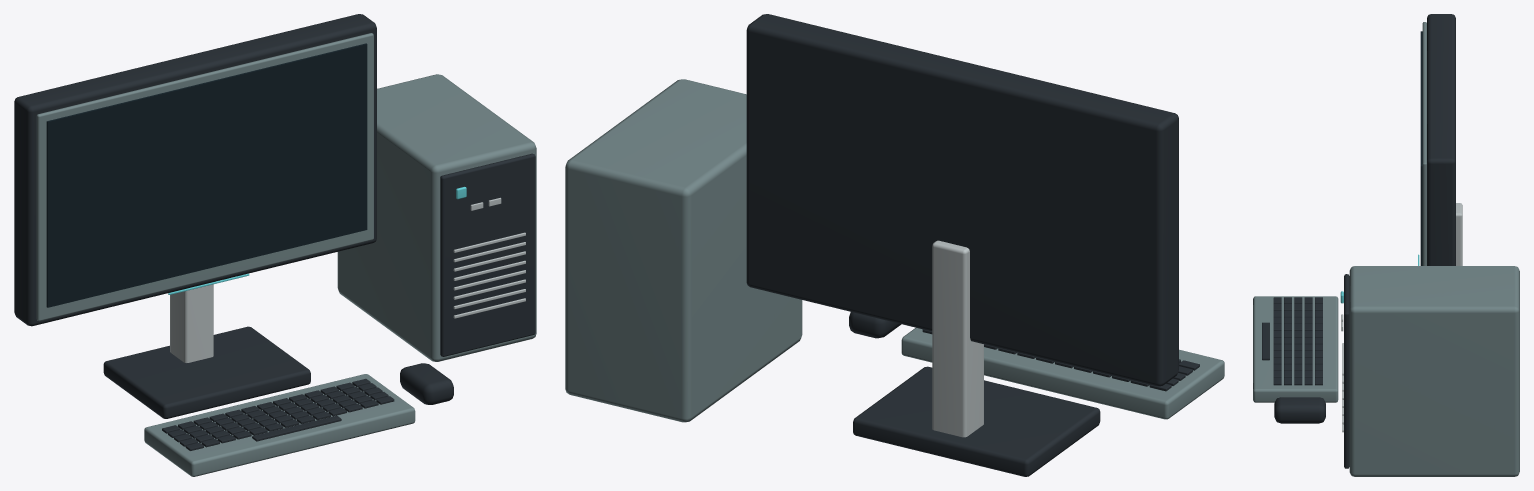
File: HF_OperationsPC.fbx
3 renders of one model, left to right at view 1: azimuth 30°, elevation 25°; view 2: azimuth 150°, elevation 25°; view 3: azimuth 270°, elevation 25°, orthographic. The views are drawn at different scales.
Visible parts, largest first — view 1: Chassis.002, DisplayGlass.002; view 2: Chassis.002; view 3: Chassis.002, DisplayGlass.002.
Part boxes in pixels (x1,y1,x2,y2): Chassis.002: (14,14,536,476); DisplayGlass.002: (46,43,367,307); Chassis.002: (565,14,1224,476); Chassis.002: (1253,14,1519,476); DisplayGlass.002: (1420,31,1422,265).
Size of the model in its own units: 104 by 66.5 by 59.5.
